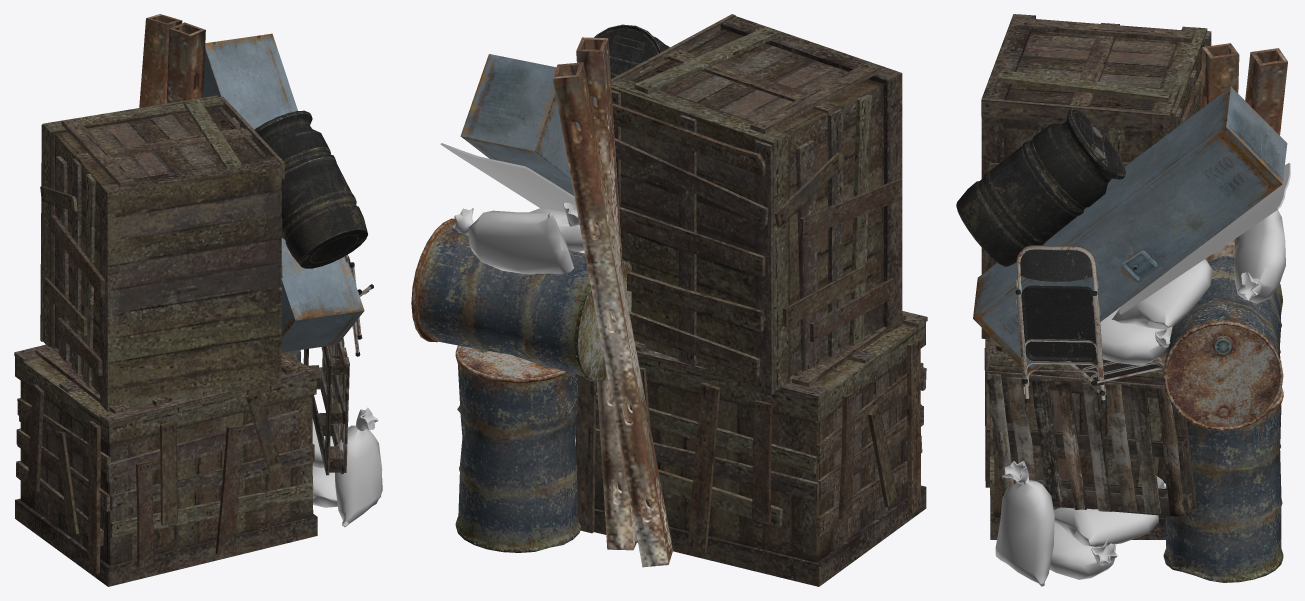
The model's file is Barricade9.fbx.
The picture shows the model from 3 angles, left to right: view 1: azimuth 30°, elevation 25°; view 2: azimuth 150°, elevation 25°; view 3: azimuth 270°, elevation 25°; orthographic projection. The views are drawn at different scales.
Parts seen in each view (by area): view 1: LOD_1_Group_3_Sub_1__sm26_002_WoodBox01A_D_Mat, LOD_1_Group_0_Sub_6__sm26_002_WoodBox01A_D_Mat, LOD_1_Group_0_Sub_7__sm30_051_Locker01A_A_Mat1, LOD_1_Group_0_Sub_2__sm22_048_CylinderPlasticTank01A_A_Mat1, LOD_1_Group_0_Sub_1__sm26_025_Poles01A_A_Mat1, LOD_1_Group_0_Sub_3__sm26_046_Sandbag04A_A_Mat__Env_default, LOD_1_Group_0_Sub_8__sm26_003_Palette01A_A_Mat; view 2: LOD_1_Group_3_Sub_1__sm26_002_WoodBox01A_D_Mat, LOD_1_Group_0_Sub_6__sm26_002_WoodBox01A_D_Mat, LOD_1_Group_0_Sub_9__sm26_013_oilCan01A_A_Mat, LOD_1_Group_0_Sub_1__sm26_025_Poles01A_A_Mat1, LOD_1_Group_0_Sub_7__sm30_051_Locker01A_A_Mat1, LOD_1_Group_0_Sub_3__sm26_046_Sandbag04A_A_Mat__Env_default, LOD_1_Group_0_Sub_5__sm26_022_WoodBoard01A_A_Mat, LOD_1_Group_0_Sub_2__sm22_048_CylinderPlasticTank01A_A_Mat1; view 3: LOD_1_Group_0_Sub_9__sm26_013_oilCan01A_A_Mat, LOD_1_Group_0_Sub_7__sm30_051_Locker01A_A_Mat1, LOD_1_Group_3_Sub_1__sm26_002_WoodBox01A_D_Mat, LOD_1_Group_0_Sub_8__sm26_003_Palette01A_A_Mat, LOD_1_Group_0_Sub_3__sm26_046_Sandbag04A_A_Mat__Env_default, LOD_1_Group_0_Sub_2__sm22_048_CylinderPlasticTank01A_A_Mat1, LOD_1_Group_0_Sub_4__sm30_153_FoldingChair01A_A_Mat, LOD_1_Group_0_Sub_6__sm26_002_WoodBox01A_D_Mat, LOD_1_Group_0_Sub_1__sm26_025_Poles01A_A_Mat1, LOD_1_Group_0_Sub_5__sm26_022_WoodBoard01A_A_Mat.
Boxes of the visible parts, x1,y1,x2,y2 form: LOD_1_Group_3_Sub_1__sm26_002_WoodBox01A_D_Mat: (40, 95, 284, 411); LOD_1_Group_0_Sub_6__sm26_002_WoodBox01A_D_Mat: (14, 344, 317, 586); LOD_1_Group_0_Sub_7__sm30_051_Locker01A_A_Mat1: (203, 33, 364, 352); LOD_1_Group_0_Sub_2__sm22_048_CylinderPlasticTank01A_A_Mat1: (254, 110, 367, 268); LOD_1_Group_0_Sub_1__sm26_025_Poles01A_A_Mat1: (139, 14, 205, 107); LOD_1_Group_0_Sub_3__sm26_046_Sandbag04A_A_Mat__Env_default: (312, 408, 382, 526); LOD_1_Group_0_Sub_8__sm26_003_Palette01A_A_Mat: (303, 338, 349, 475); LOD_1_Group_3_Sub_1__sm26_002_WoodBox01A_D_Mat: (611, 14, 902, 395); LOD_1_Group_0_Sub_6__sm26_002_WoodBox01A_D_Mat: (576, 311, 927, 586); LOD_1_Group_0_Sub_9__sm26_013_oilCan01A_A_Mat: (411, 218, 631, 552); LOD_1_Group_0_Sub_1__sm26_025_Poles01A_A_Mat1: (553, 37, 672, 567); LOD_1_Group_0_Sub_7__sm30_051_Locker01A_A_Mat1: (460, 54, 597, 195); LOD_1_Group_0_Sub_3__sm26_046_Sandbag04A_A_Mat__Env_default: (452, 202, 584, 445); LOD_1_Group_0_Sub_5__sm26_022_WoodBoard01A_A_Mat: (440, 143, 575, 211); LOD_1_Group_0_Sub_2__sm22_048_CylinderPlasticTank01A_A_Mat1: (594, 24, 669, 79); LOD_1_Group_0_Sub_9__sm26_013_oilCan01A_A_Mat: (1163, 247, 1283, 582); LOD_1_Group_0_Sub_7__sm30_051_Locker01A_A_Mat1: (973, 86, 1287, 374); LOD_1_Group_3_Sub_1__sm26_002_WoodBox01A_D_Mat: (981, 14, 1211, 339); LOD_1_Group_0_Sub_8__sm26_003_Palette01A_A_Mat: (985, 364, 1197, 517); LOD_1_Group_0_Sub_3__sm26_046_Sandbag04A_A_Mat__Env_default: (995, 210, 1285, 586); LOD_1_Group_0_Sub_2__sm22_048_CylinderPlasticTank01A_A_Mat1: (956, 109, 1125, 266); LOD_1_Group_0_Sub_4__sm30_153_FoldingChair01A_A_Mat: (1015, 245, 1164, 404); LOD_1_Group_0_Sub_6__sm26_002_WoodBox01A_D_Mat: (984, 338, 1165, 539); LOD_1_Group_0_Sub_1__sm26_025_Poles01A_A_Mat1: (1200, 43, 1287, 261); LOD_1_Group_0_Sub_5__sm26_022_WoodBoard01A_A_Mat: (1119, 163, 1290, 314).
Size of the model in its own units: 2.38 by 3.11 by 1.97.
